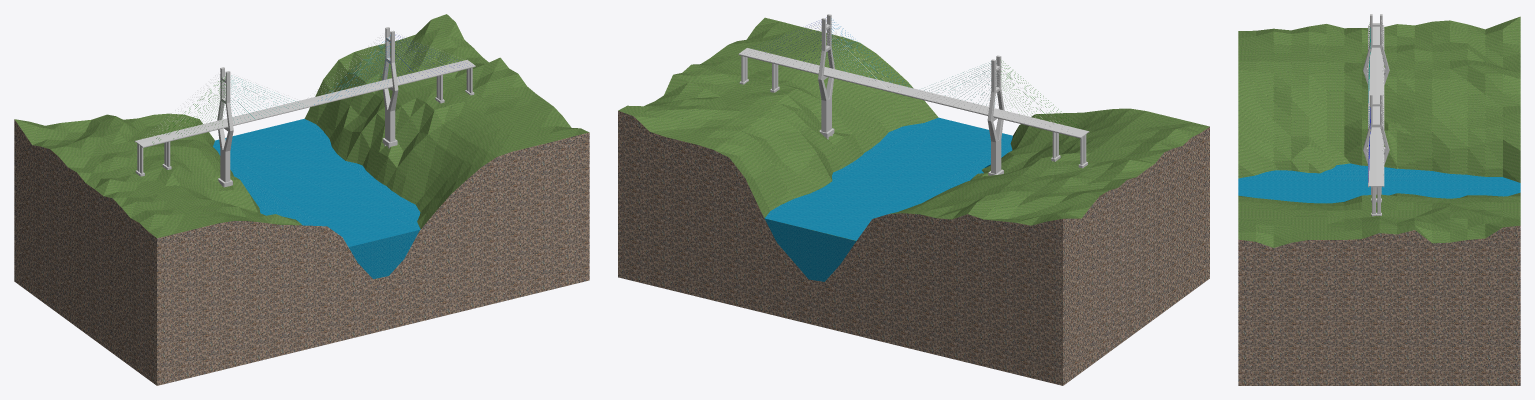
File: wujiang.glb
The picture shows the model from 3 angles, left to right: view 1: azimuth 30°, elevation 25°; view 2: azimuth 150°, elevation 25°; view 3: azimuth 270°, elevation 25°; orthographic projection. The views are drawn at different scales.
Parts seen in each view (by area): view 1: root; view 2: root; view 3: root.
Boxes of the visible parts, x1=… form: root: x1=14, y1=14, x2=589, y2=385; root: x1=618, y1=14, x2=1209, y2=385; root: x1=1238, y1=14, x2=1520, y2=385.
Bounding box in the file's own units: 84 × 42.95 × 48.
87 materials, 3 textured.
